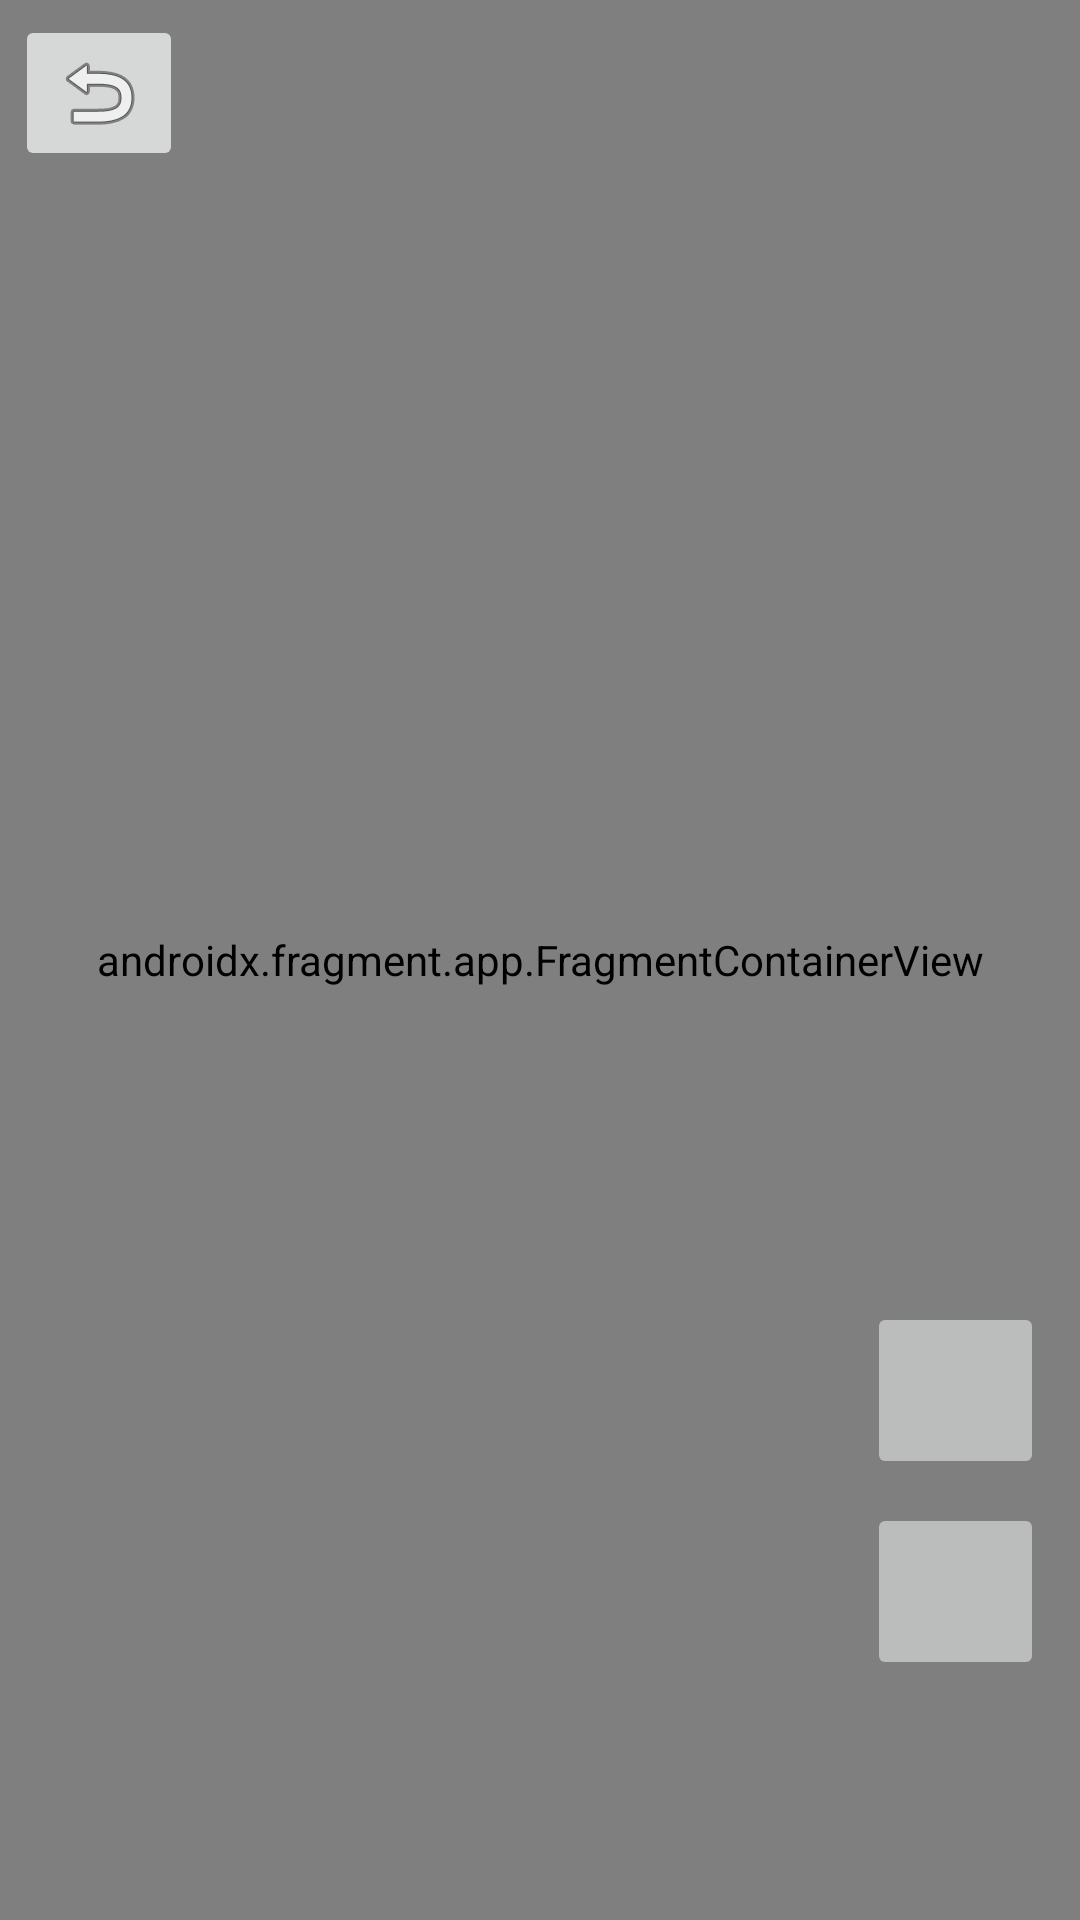

Point at icon controls on the screen. Image size 1080*1920, points as [x,y].
revert: [99,93]
